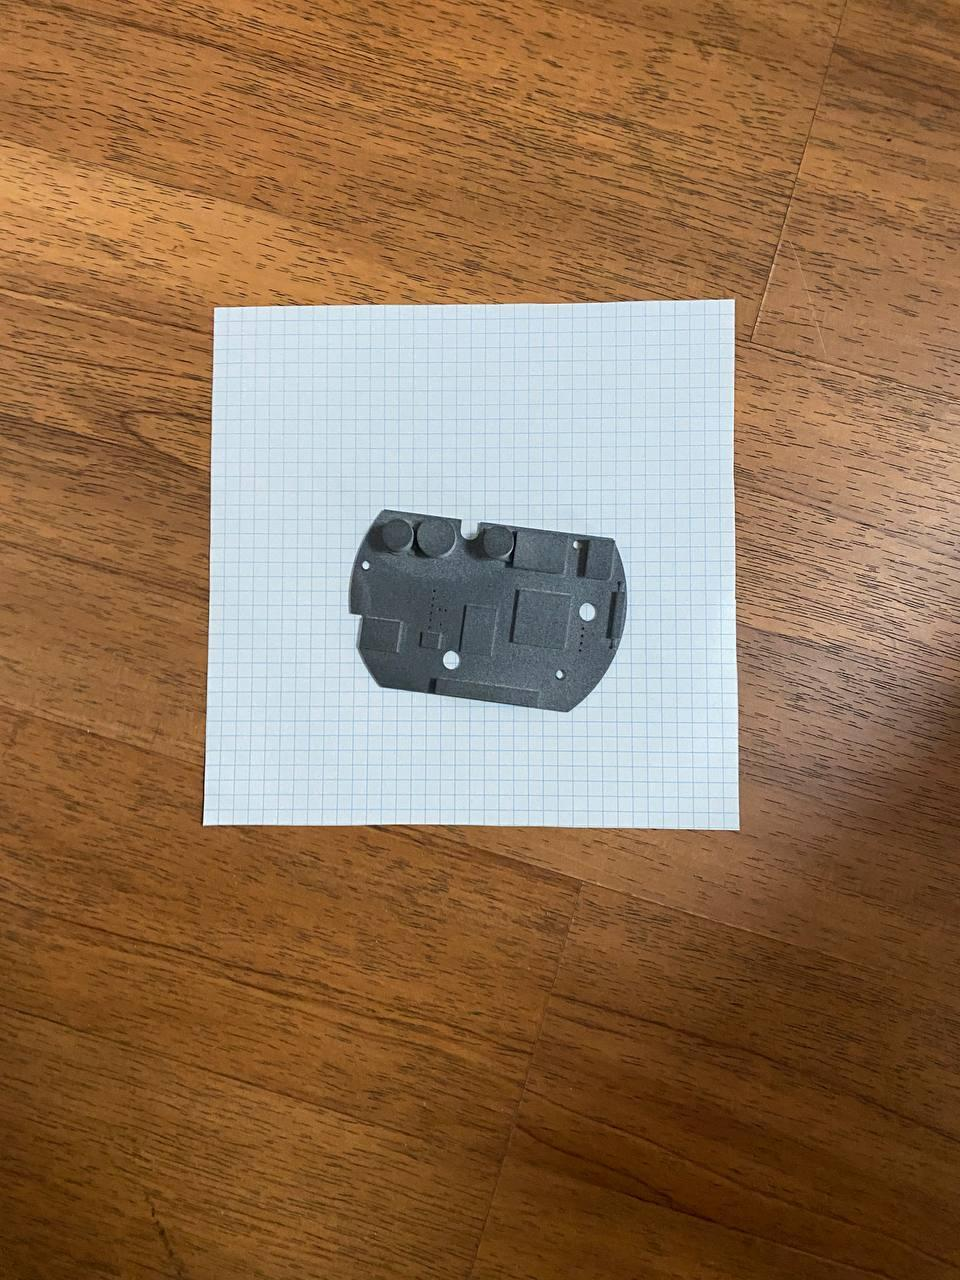grid: (188, 293, 779, 857)
